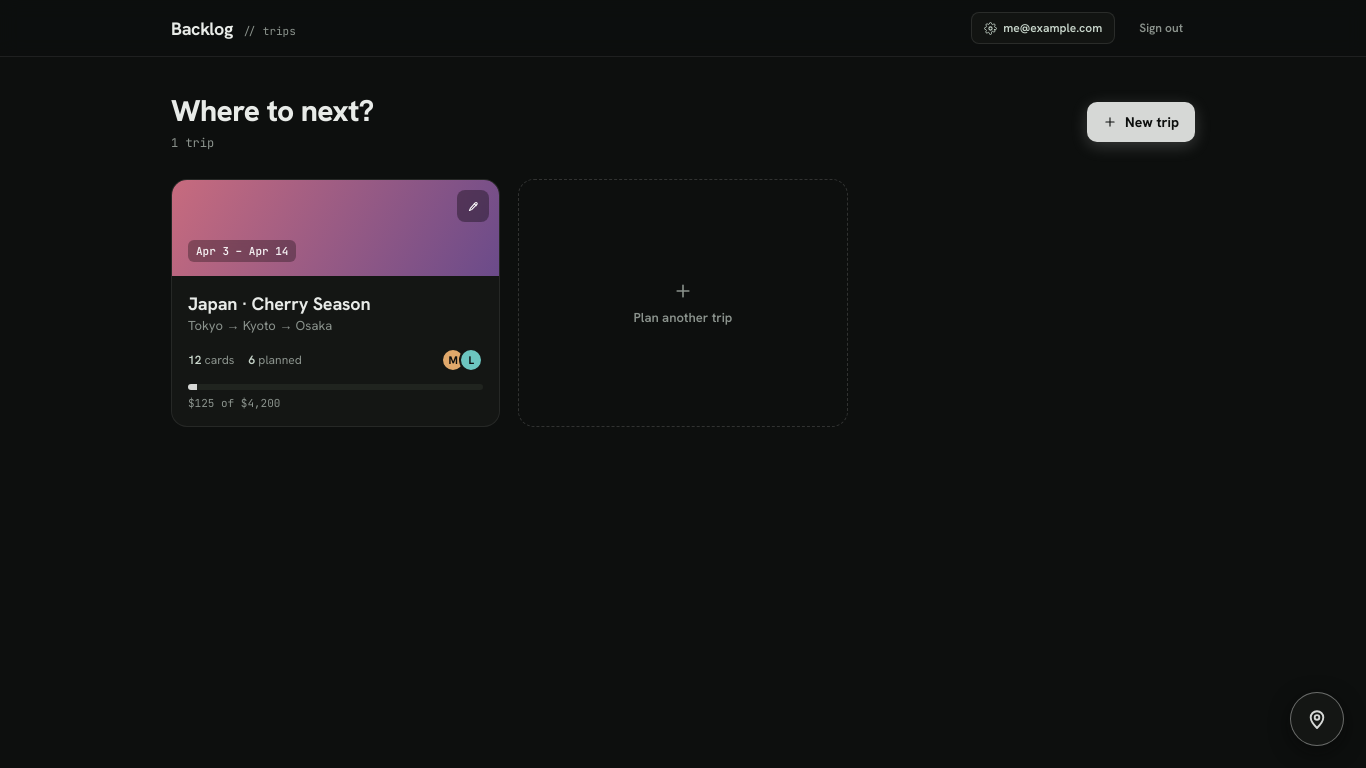
Test: TripPlanner › moves a card to any day from its menu, without dragging
expect the heading "Where to next?" is shown: met, box [171, 93, 374, 129]
Click the button with aria-label "Open Japan · Cherry Season" at (279, 304), box [188, 292, 370, 315]
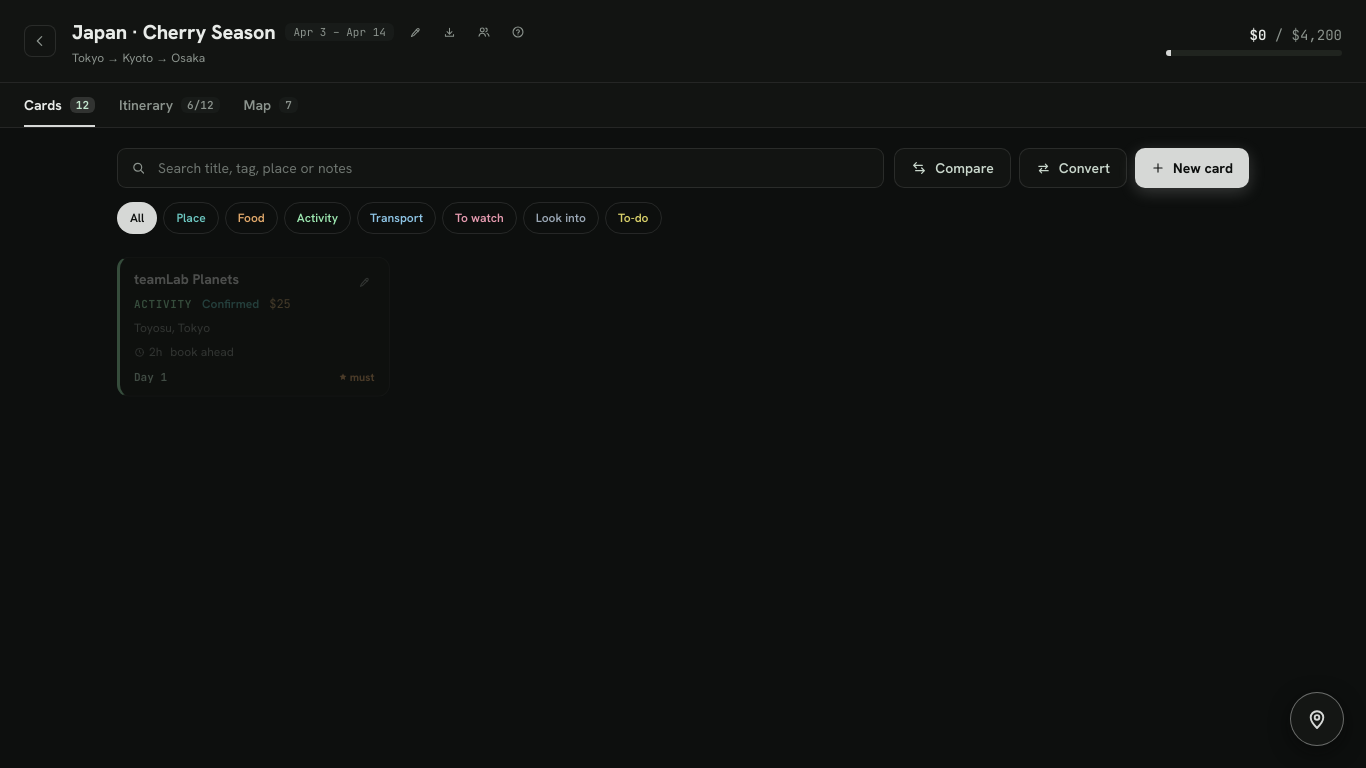
Click the tab "Itinerary 6 /12" at (169, 105), box [119, 83, 220, 127]
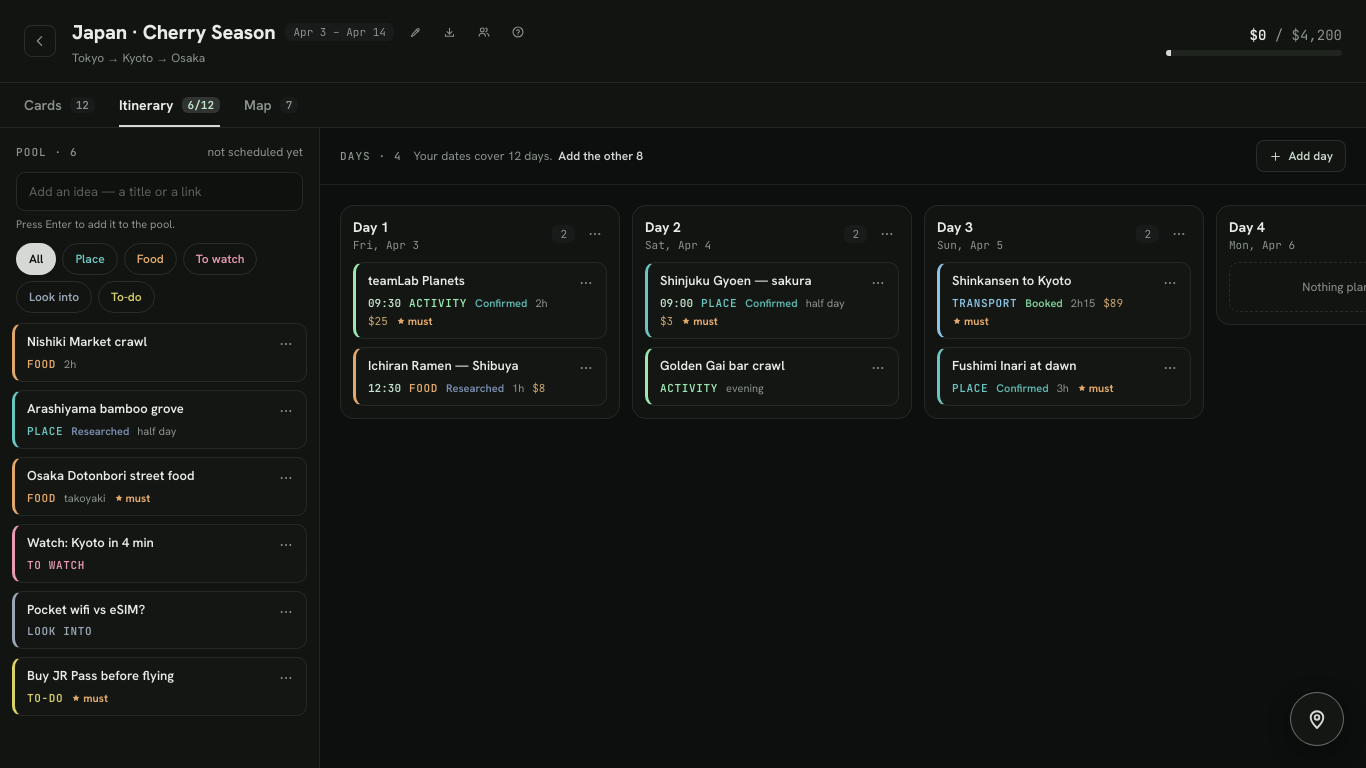
Click the button named "Move Nishiki Market crawl" at (286, 344), box [270, 328, 302, 360]
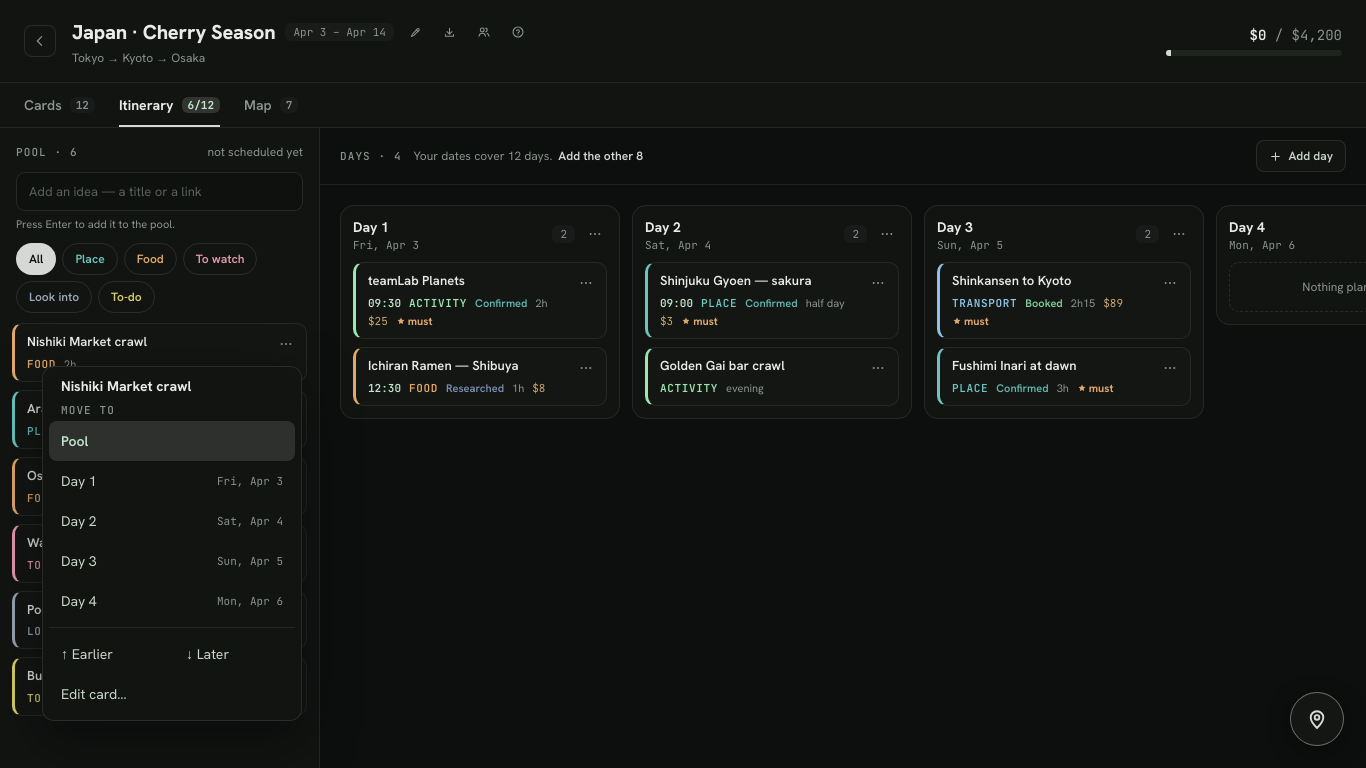
Click the button "Day 3 Sun, Apr 5" at (172, 561), box [49, 541, 295, 581]
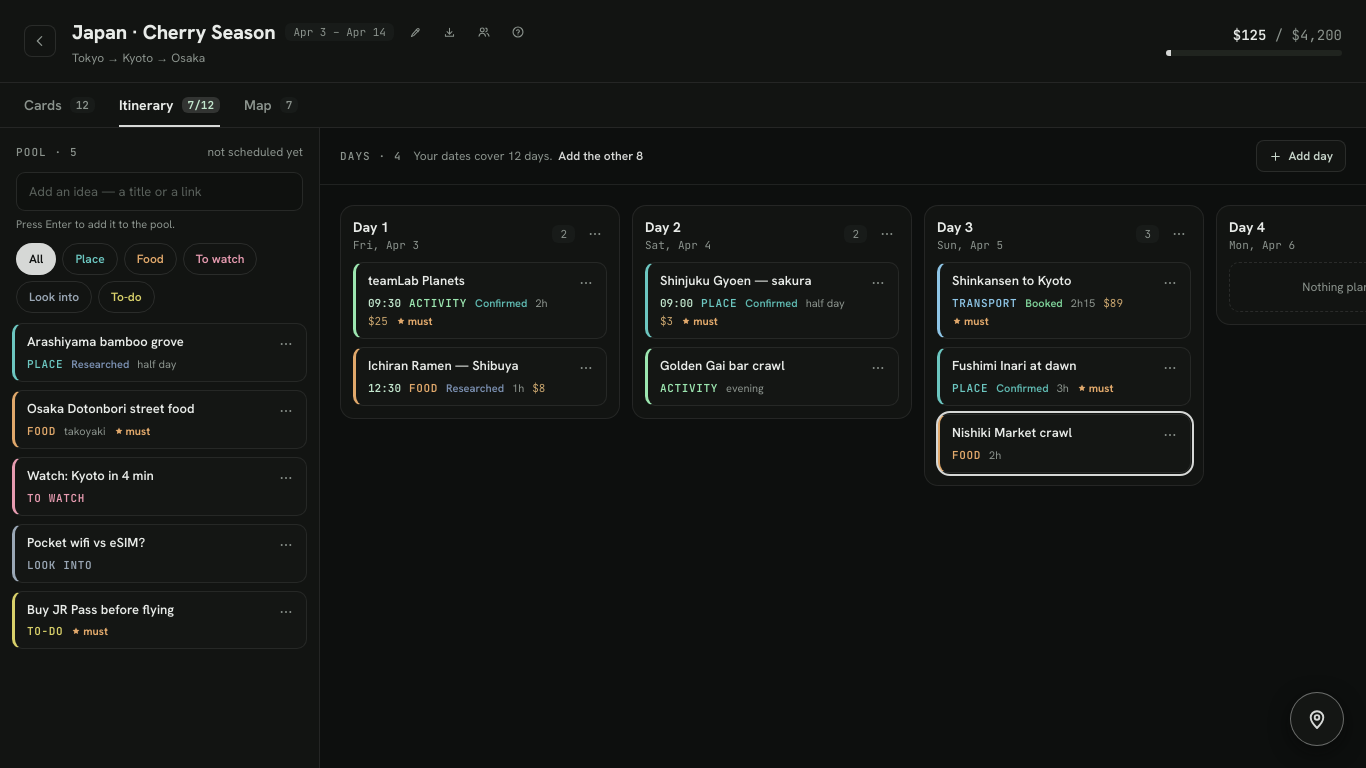
expect the dialog is gone: met
